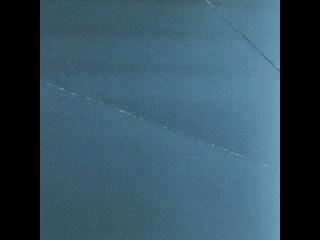crack: (40, 78, 279, 174), (205, 0, 281, 71)
